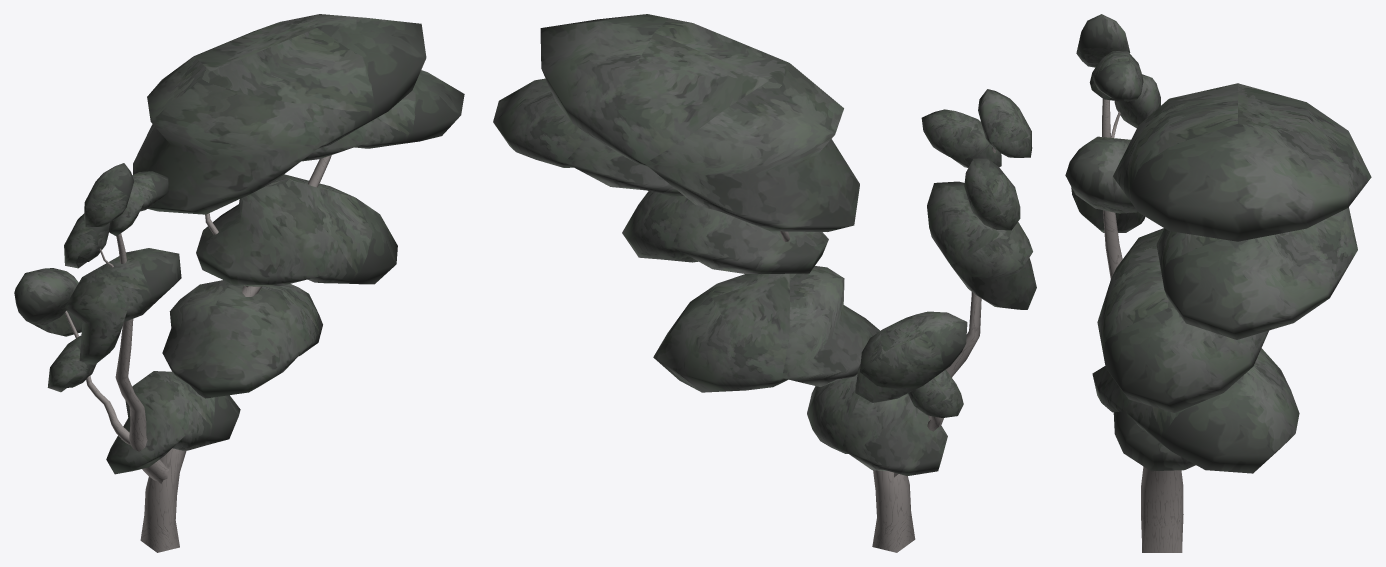
File: OakTree.fbx
3 renders of one model, left to right at view 1: azimuth 30°, elevation 25°; view 2: azimuth 150°, elevation 25°; view 3: azimuth 270°, elevation 25°, orthographic. The views are drawn at different scales.
Parts seen in each view (by area): view 1: OakTree; view 2: OakTree; view 3: OakTree.
Part boxes in pixels (x1,y1,x2,y2): OakTree: [14, 14, 464, 552]; OakTree: [493, 14, 1036, 552]; OakTree: [1065, 14, 1371, 552].
Bounding box in the file's own units: 15.87 × 15.36 × 8.01.
2 materials, 2 textured.
